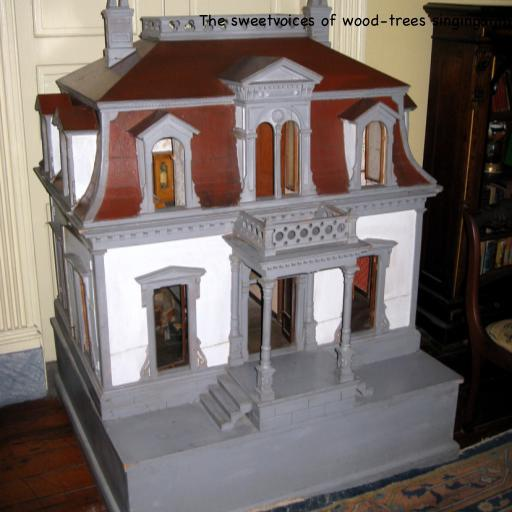Chalkboard: (198, 13, 488, 31)
